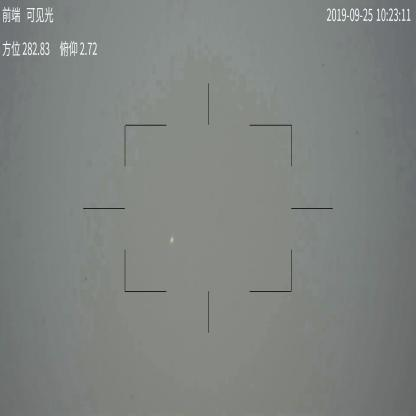uav: (169, 235, 175, 244)
